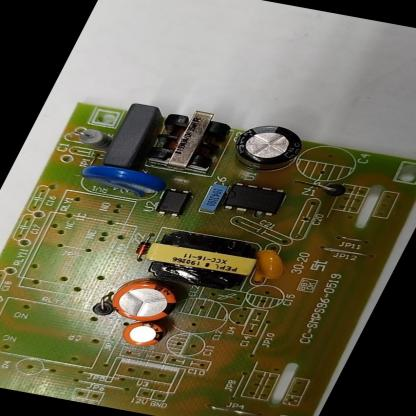Cap1: (104, 275, 186, 326)
Cap2: (116, 320, 167, 350)
Cap3: (224, 121, 309, 178)
MOSFET: (221, 181, 287, 216)
Mov: (77, 164, 169, 198)
Resistor: (67, 126, 116, 150)
Transformer: (134, 225, 265, 292), (142, 105, 236, 174)
